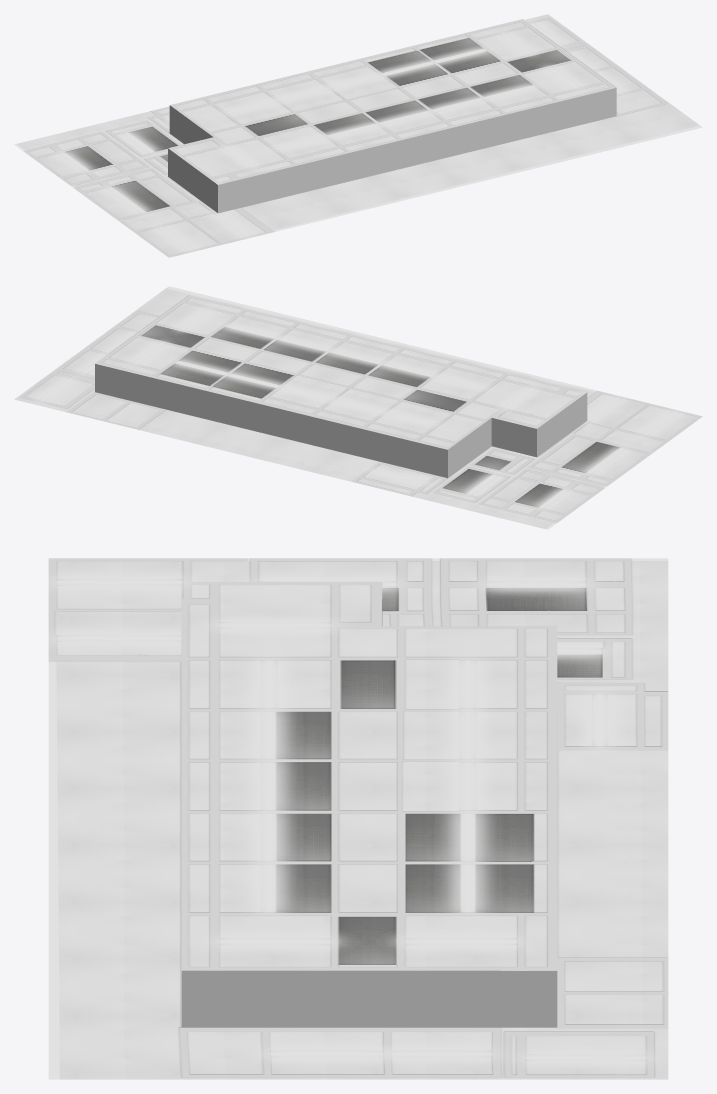
Rendered from ceiling.fbx.
3 renders of one model, top to bottom at view 1: azimuth 30°, elevation 25°; view 2: azimuth 150°, elevation 25°; view 3: azimuth 270°, elevation 25°, orthographic. The views are drawn at different scales.
Visible parts, largest first — view 1: lab ceiling; view 2: lab ceiling; view 3: lab ceiling.
Boxes of the visible parts, x1=… form: lab ceiling: x1=14, y1=14, x2=702, y2=257; lab ceiling: x1=14, y1=286, x2=702, y2=529; lab ceiling: x1=48, y1=558, x2=668, y2=1079.
Bounding box in the file's own units: 1294 × 65.8 × 650.
